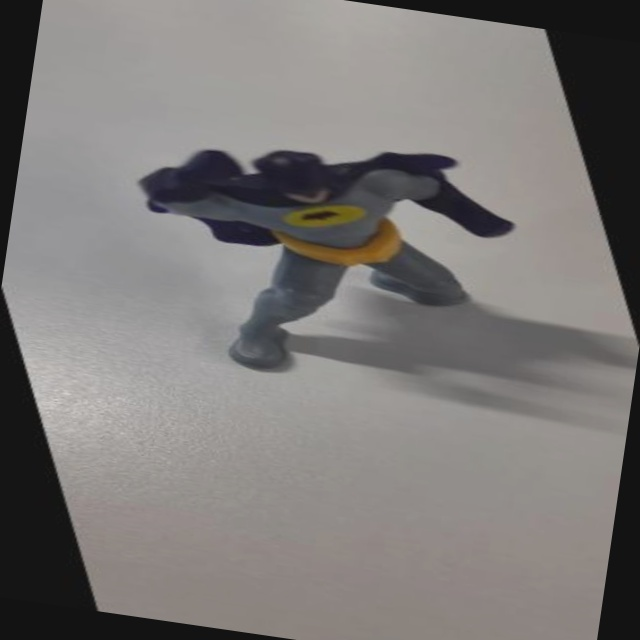Batman: (57, 83, 627, 461)
